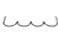inductor: (1, 14, 57, 28)
